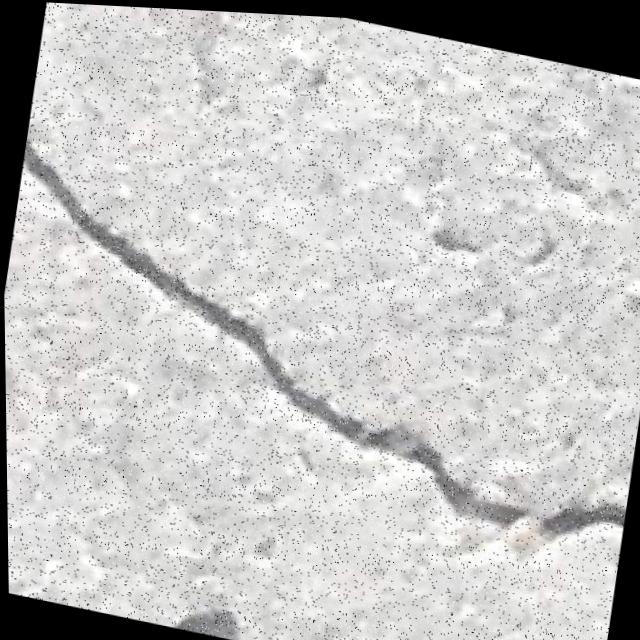Crack: (1, 123, 640, 582)
